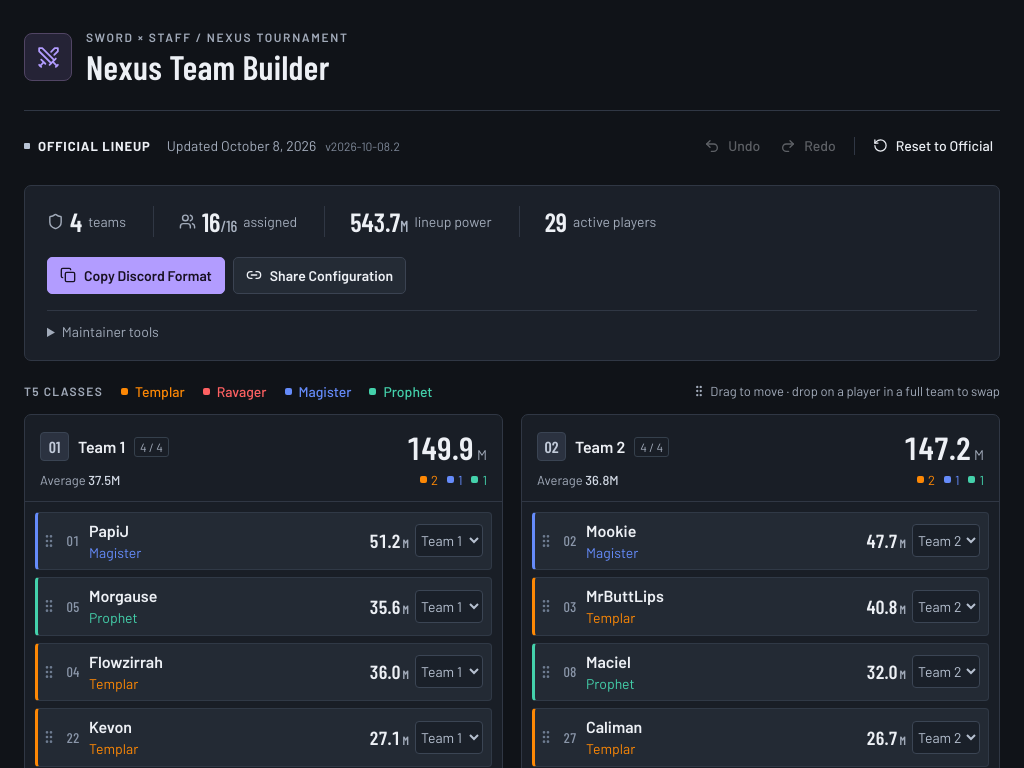
it: selector move saves a custom draft and undo restores official
Select "Reserve" in the dropdown named "Move PapiJ" at (449, 541), box [415,524,483,557]
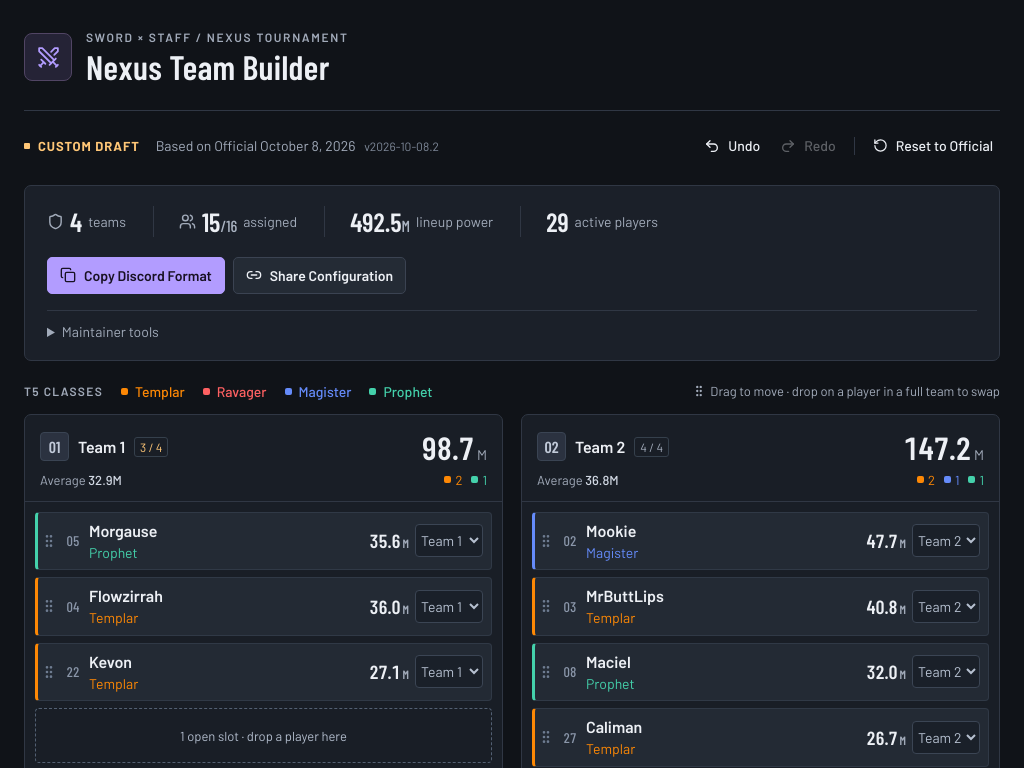
Expected: the text "CUSTOM DRAFT" is shown, [24,138,140,154]
Click the button "Undo" at (732, 146), box [697,128,767,164]
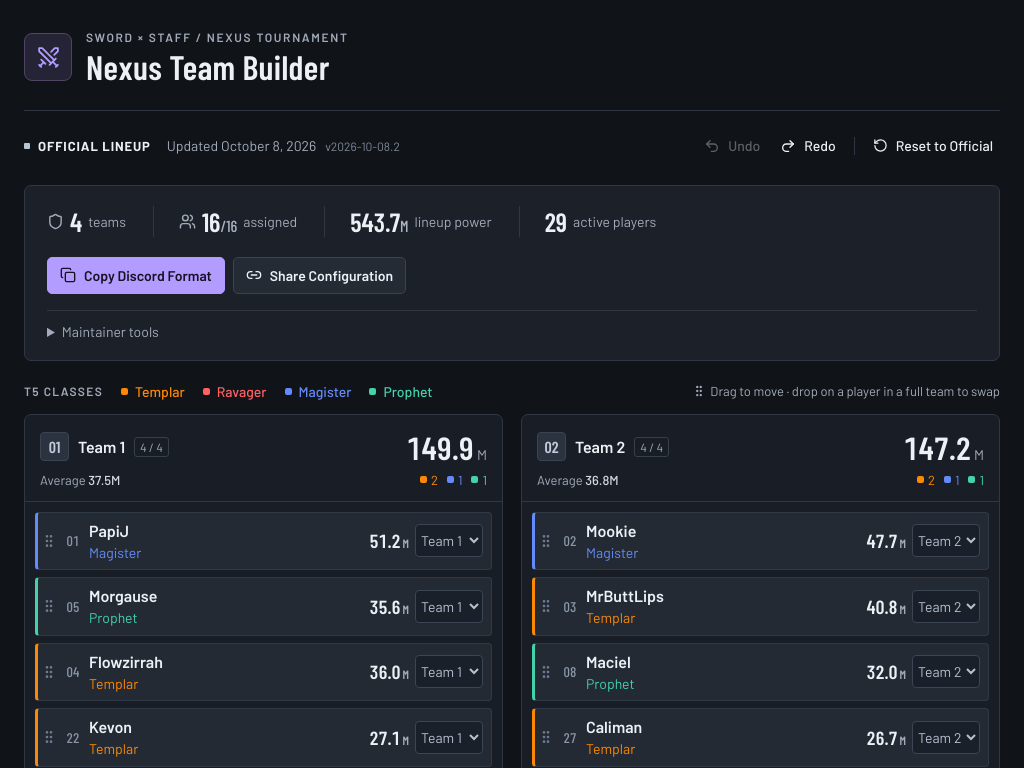
Expected: the text "OFFICIAL LINEUP" is shown, [24,138,151,154]
